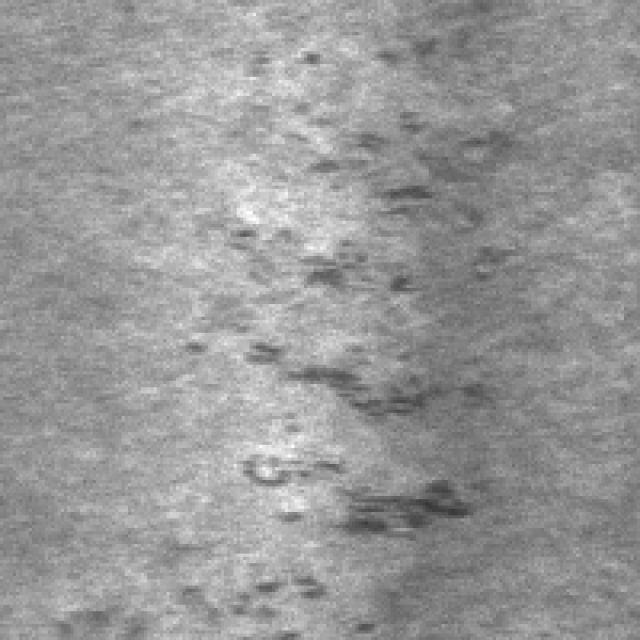rolled-in_scale: (205, 32, 464, 301), (176, 330, 480, 547), (64, 566, 371, 634)
